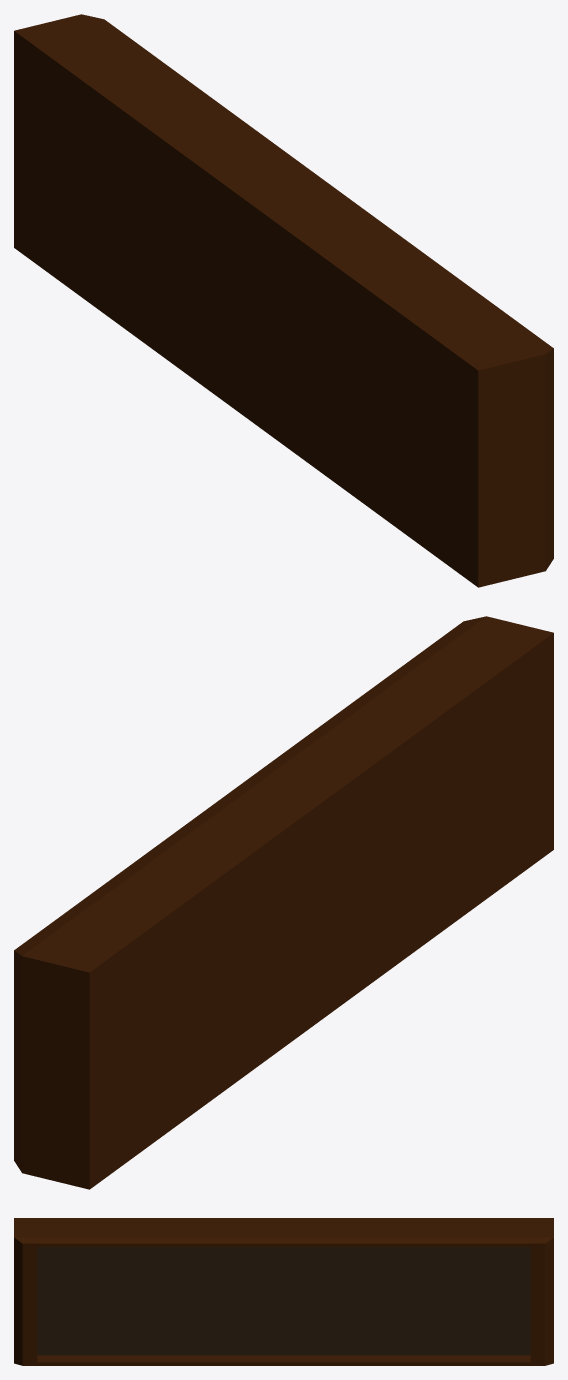
The model's file is SmallSign.fbx.
3 views of the same model, one above another, from view 1: azimuth 30°, elevation 25°; view 2: azimuth 150°, elevation 25°; view 3: azimuth 270°, elevation 25° (orthographic). The views are drawn at different scales.
Parts seen in each view (by area): view 1: SmallSign; view 2: SmallSign; view 3: SmallSign.
Part boxes in pixels (x1,y1,x2,y2): SmallSign: [14, 14, 553, 587]; SmallSign: [14, 616, 553, 1189]; SmallSign: [14, 1218, 553, 1365].
Size of the model in its own units: 11.94 by 29.83 by 116.
